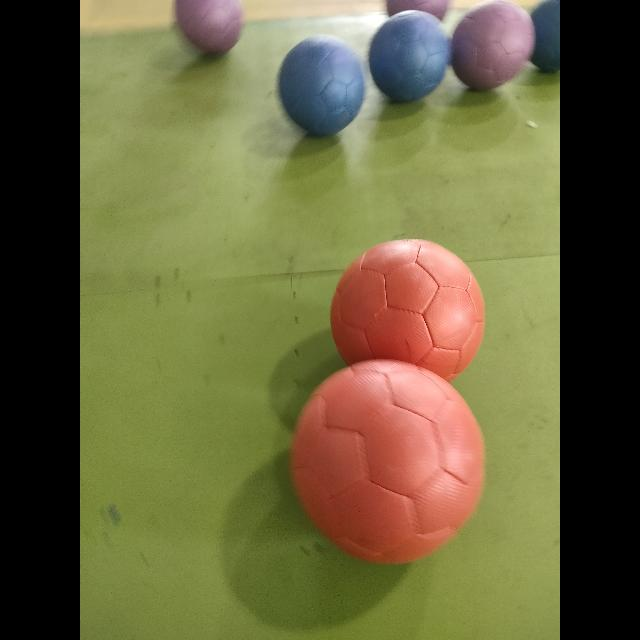B: (280, 36, 364, 136), (369, 11, 451, 101), (530, 1, 560, 72)
P: (452, 1, 534, 89), (176, 0, 244, 52), (386, 1, 449, 20)
R: (292, 360, 484, 562), (329, 236, 488, 388)
